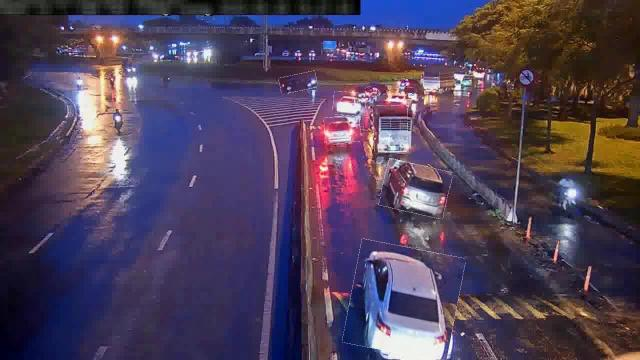Bike: (558, 174, 578, 216)
Car: (346, 243, 462, 357), (381, 162, 451, 217), (324, 115, 361, 144), (334, 92, 366, 116), (279, 72, 317, 92)
Truck: (374, 106, 408, 154)
